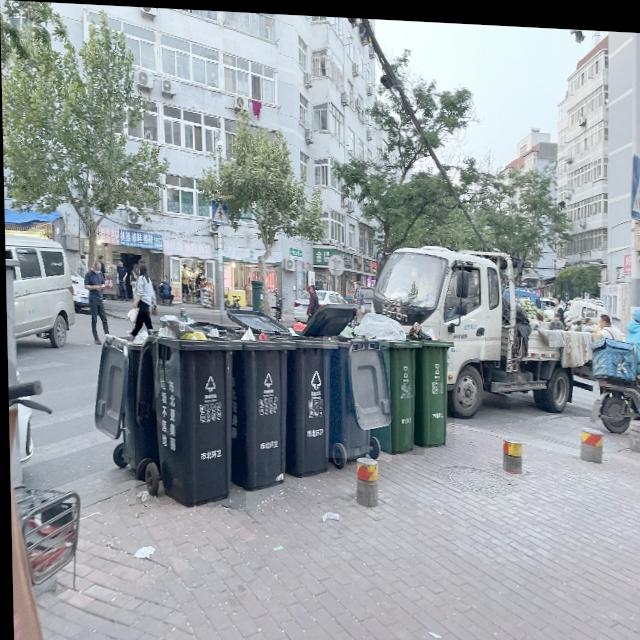garbage_bin: (267, 329, 338, 475), (322, 331, 390, 457)
overflow: (130, 309, 244, 507), (224, 323, 296, 492), (351, 307, 423, 451), (90, 324, 158, 475), (406, 316, 454, 443)
